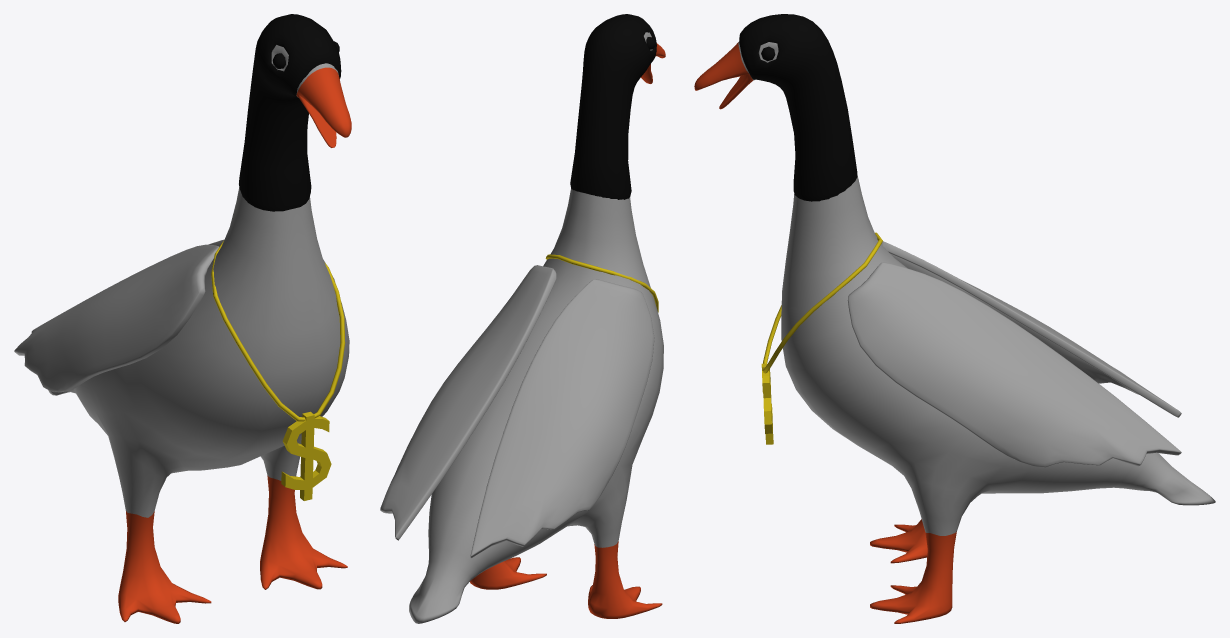
The model's file is SKIN.obj.
3 views of the same model, side by side, from view 1: azimuth 30°, elevation 25°; view 2: azimuth 150°, elevation 25°; view 3: azimuth 270°, elevation 25° (orthographic). The views are drawn at different scales.
Visible parts, largest first — view 1: body, body.002, Text, Cylinder; view 2: body, body.002, Cylinder; view 3: body, body.002, Cylinder.
Part boxes in pixels (x1,y1,x2,y2): body: (14,41,351,623); body.002: (239,14,341,211); Text: (281,411,331,500); Cylinder: (211,241,345,421); body: (380,32,665,623); body.002: (570,14,656,199); Cylinder: (545,254,658,312); body: (694,41,1215,623); body.002: (739,14,857,201); Cylinder: (763,232,882,373).
Bounding box in the file's own units: 0.764 × 2.04 × 1.72.
